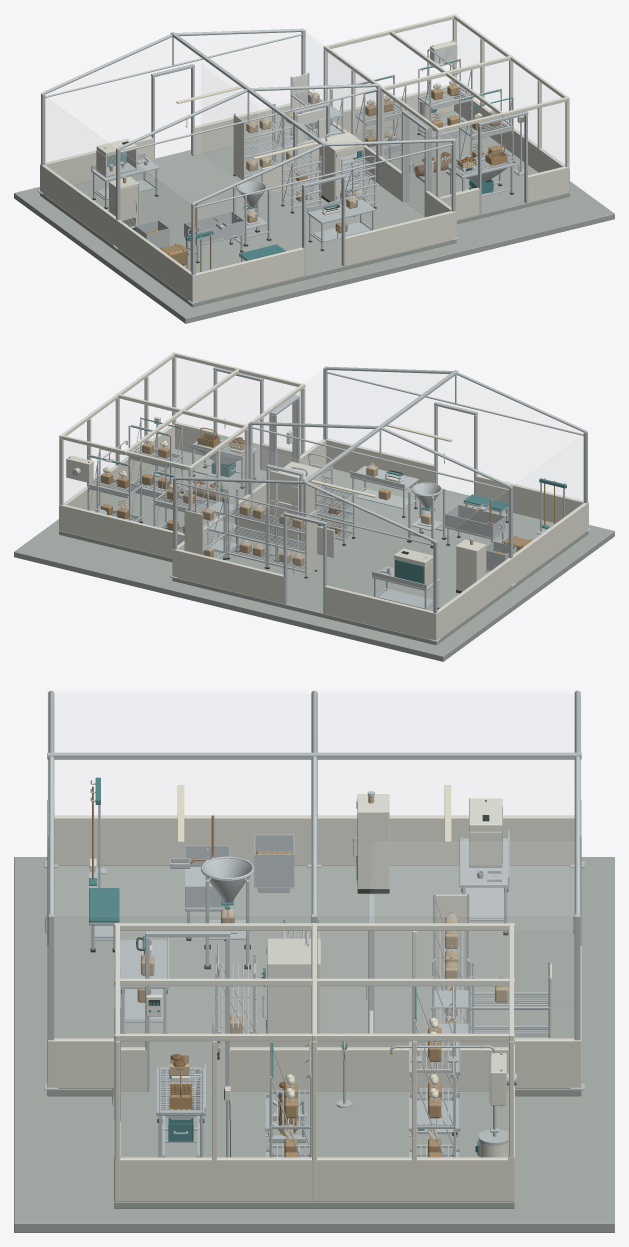
File: mushroom-farm-and-grow-rooms-stocked-mus-0f594c41-starter-scene__30850.glb
3 renders of one model, top to bottom at view 1: azimuth 30°, elevation 25°; view 2: azimuth 150°, elevation 25°; view 3: azimuth 270°, elevation 25°, orthographic. The views are drawn at different scales.
Visible parts, largest first — view 1: 001-roofed-farm-processing-hall/3, 001-roofed-farm-processing-hall/2, 001-roofed-farm-processing-hall/0, 000-farm-floor-base/0, 002-insulated-fruiting-room/1, 001-roofed-farm-processing-hall/1, 002-insulated-fruiting-room/2, 002-insulated-fruiting-room/0, 018-pasteurization-cabinet/1, 014-clean-inoculation-bench/0, 002-insulated-fruiting-room/3, 021-cooling-rack/0 (+20 smaller); view 2: 001-roofed-farm-processing-hall/3, 001-roofed-farm-processing-hall/2, 001-roofed-farm-processing-hall/0, 000-farm-floor-base/0, 002-insulated-fruiting-room/1, 001-roofed-farm-processing-hall/1, 002-insulated-fruiting-room/2, 002-insulated-fruiting-room/0, 033-incubation-shelf-straight/0, 008-substrate-mixing-trough/0, 014-clean-inoculation-bench/0, 021-cooling-rack/0 (+21 smaller); view 3: 001-roofed-farm-processing-hall/3, 001-roofed-farm-processing-hall/0, 000-farm-floor-base/0, 002-insulated-fruiting-room/1, 002-insulated-fruiting-room/2, 001-roofed-farm-processing-hall/2, 002-insulated-fruiting-room/0, 001-roofed-farm-processing-hall/1, 018-pasteurization-cabinet/1, 030-spawn-storage-cabinet/1, 014-clean-inoculation-bench/0, 024-clean-inoculation-bench/0 (+19 smaller).
Boxes of the visible parts, x1,y1,x2,y2 form: 001-roofed-farm-processing-hall/3: (43,31,450,214); 001-roofed-farm-processing-hall/2: (40,103,456,302); 001-roofed-farm-processing-hall/0: (40,132,456,307); 000-farm-floor-base/0: (14,150,614,323); 002-insulated-fruiting-room/1: (323,14,569,219); 001-roofed-farm-processing-hall/1: (37,28,459,304); 002-insulated-fruiting-room/2: (334,20,564,165); 002-insulated-fruiting-room/0: (355,111,569,224); 018-pasteurization-cabinet/1: (319,132,364,201); 014-clean-inoculation-bench/0: (307,194,375,249); 002-insulated-fruiting-room/3: (405,110,528,214); 021-cooling-rack/0: (281,152,321,211); 001-roofed-farm-processing-hall/3: (177,369,585,592); 001-roofed-farm-processing-hall/2: (172,438,588,640); 001-roofed-farm-processing-hall/0: (172,468,588,645); 000-farm-floor-base/0: (14,434,614,661); 002-insulated-fruiting-room/1: (59,352,305,557); 001-roofed-farm-processing-hall/1: (169,366,591,642); 002-insulated-fruiting-room/2: (64,358,294,503); 002-insulated-fruiting-room/0: (59,449,266,562); 033-incubation-shelf-straight/0: (227,489,276,567); 008-substrate-mixing-trough/0: (445,504,505,544); 014-clean-inoculation-bench/0: (350,465,418,516); 021-cooling-rack/0: (314,481,354,544); 001-roofed-farm-processing-hall/3: (50,693,578,1000); 001-roofed-farm-processing-hall/0: (47,866,581,1096); 000-farm-floor-base/0: (14,857,614,1232); 002-insulated-fruiting-room/1: (114,923,514,1201); 002-insulated-fruiting-room/2: (120,931,508,1088); 001-roofed-farm-processing-hall/2: (47,815,581,1088); 002-insulated-fruiting-room/0: (114,1089,514,1208); 001-roofed-farm-processing-hall/1: (44,690,584,1090); 018-pasteurization-cabinet/1: (267,938,320,1033); 030-spawn-storage-cabinet/1: (357,794,389,888); 014-clean-inoculation-bench/0: (120,937,169,1033); 024-clean-inoculation-bench/0: (459,830,509,932).
Bounding box in the file's own units: 13 × 3.96 × 9.
